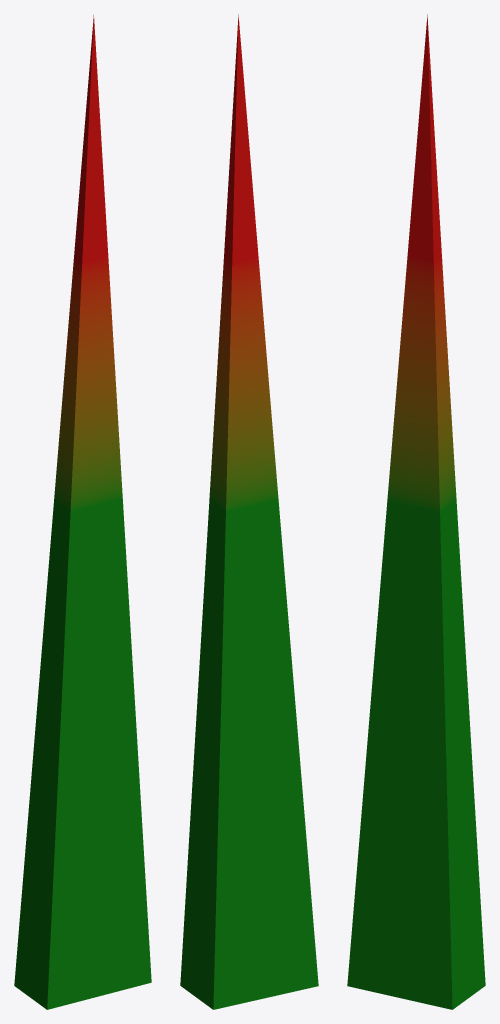
The model's file is grass.obj.
3 renders of one model, left to right at view 1: azimuth 30°, elevation 25°; view 2: azimuth 210°, elevation 25°; view 3: azimuth 330°, elevation 25°, orthographic.
Visible parts, largest first — view 1: Grass_Mesh; view 2: Grass_Mesh; view 3: Grass_Mesh.
Part boxes in pixels (left/top/right/bottom): Grass_Mesh: left=14, top=15, right=151, bottom=1009; Grass_Mesh: left=180, top=14, right=318, bottom=1009; Grass_Mesh: left=347, top=14, right=485, bottom=1009.
Bounding box in the file's own units: 0.0324 × 0.2869 × 0.0177.
